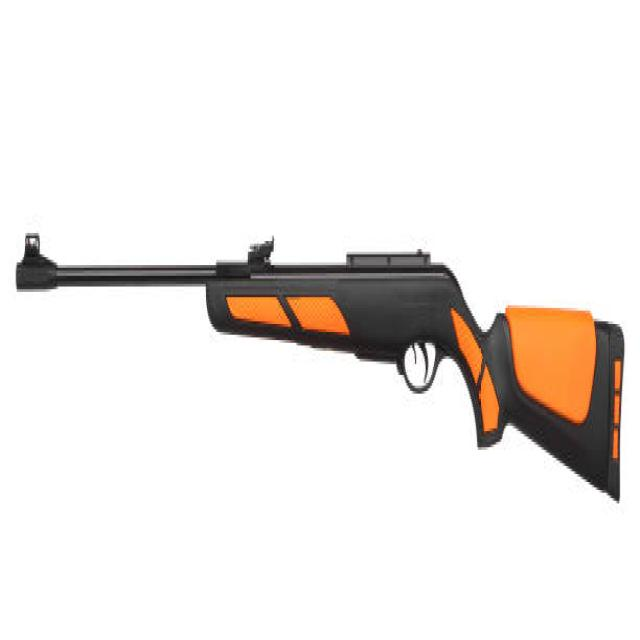rifle: (10, 224, 628, 509)
